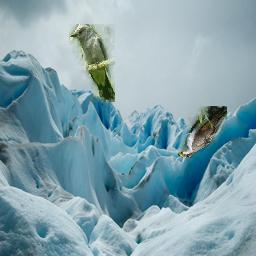Cuckoo: (69, 24, 115, 102), (179, 106, 228, 158)
